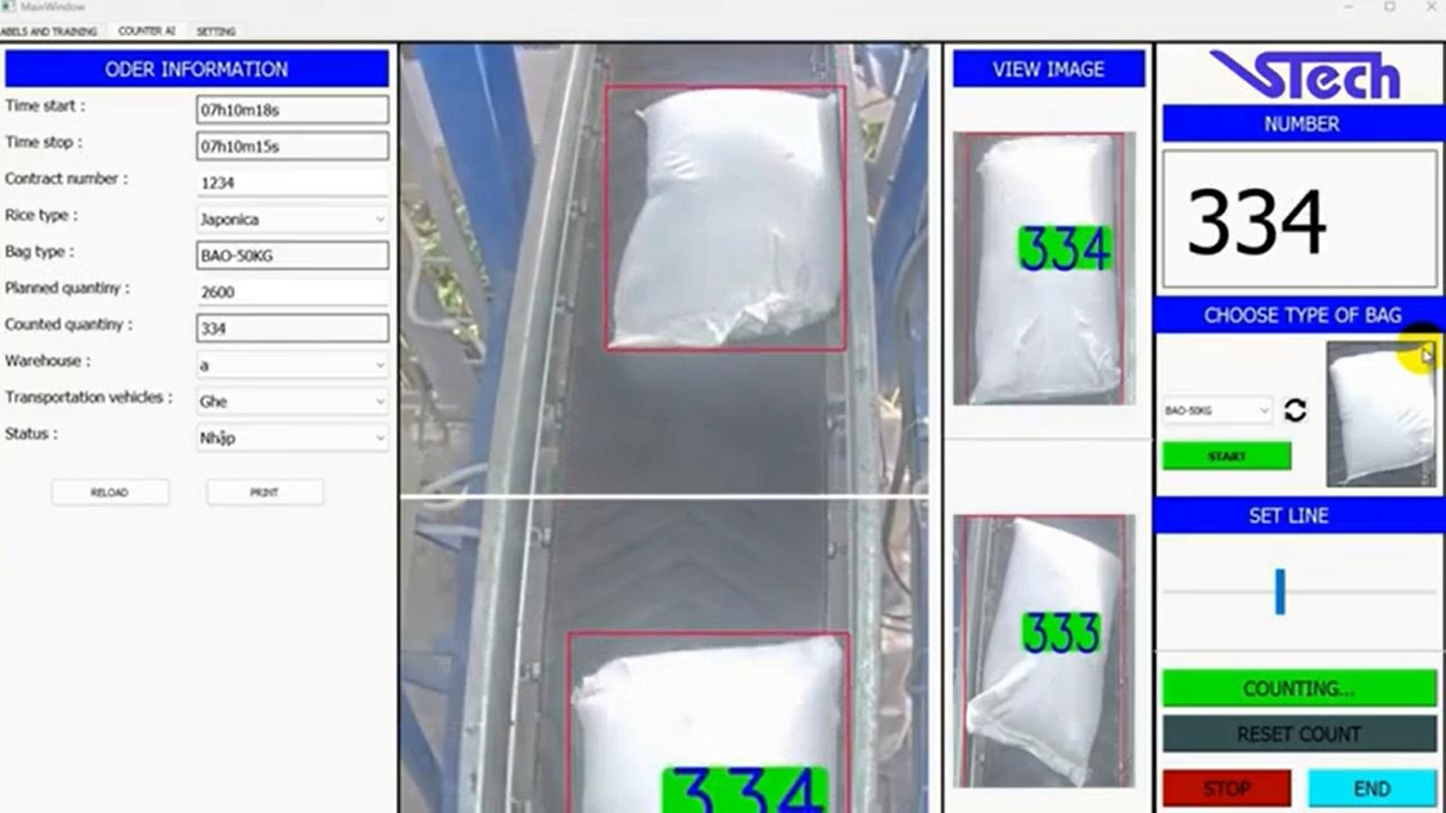rice-bag: (605, 86, 848, 349), (967, 134, 1122, 404), (969, 519, 1117, 784)
